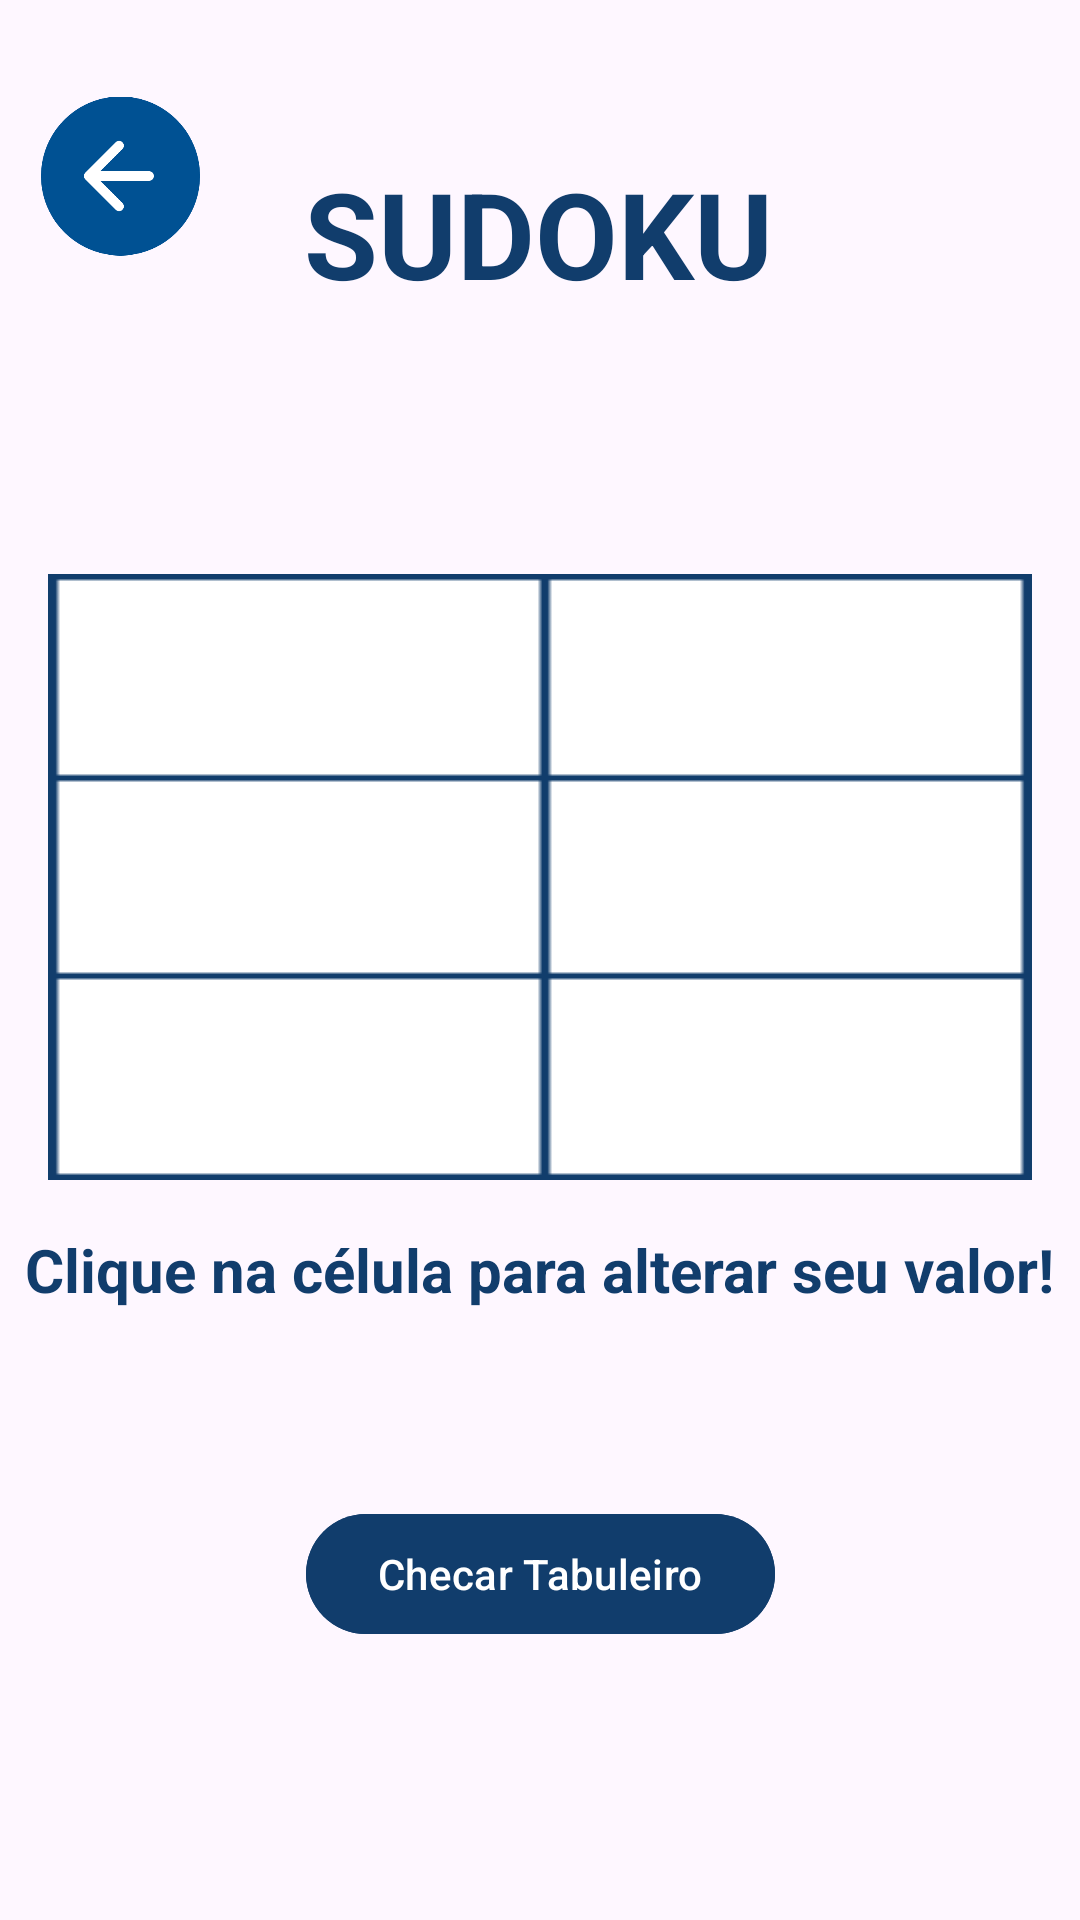

Screen size 1080px x 1920px. Icon name, then its box in pixels as detection(x1, y1, x2, y2):
seta voltar: detection(41, 97, 200, 256)
